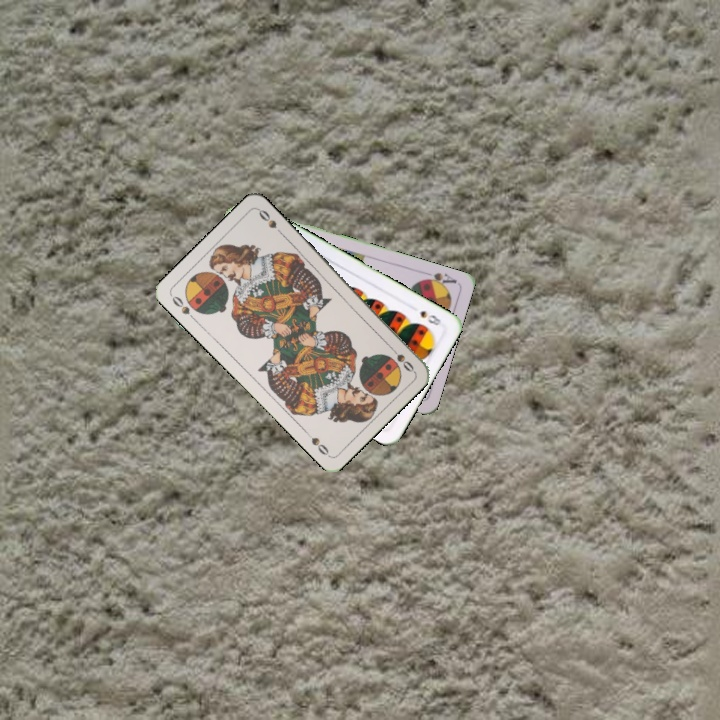S8: (416, 306, 446, 328)
SA: (417, 268, 459, 290)
SO: (385, 341, 417, 375), (168, 292, 199, 324)
